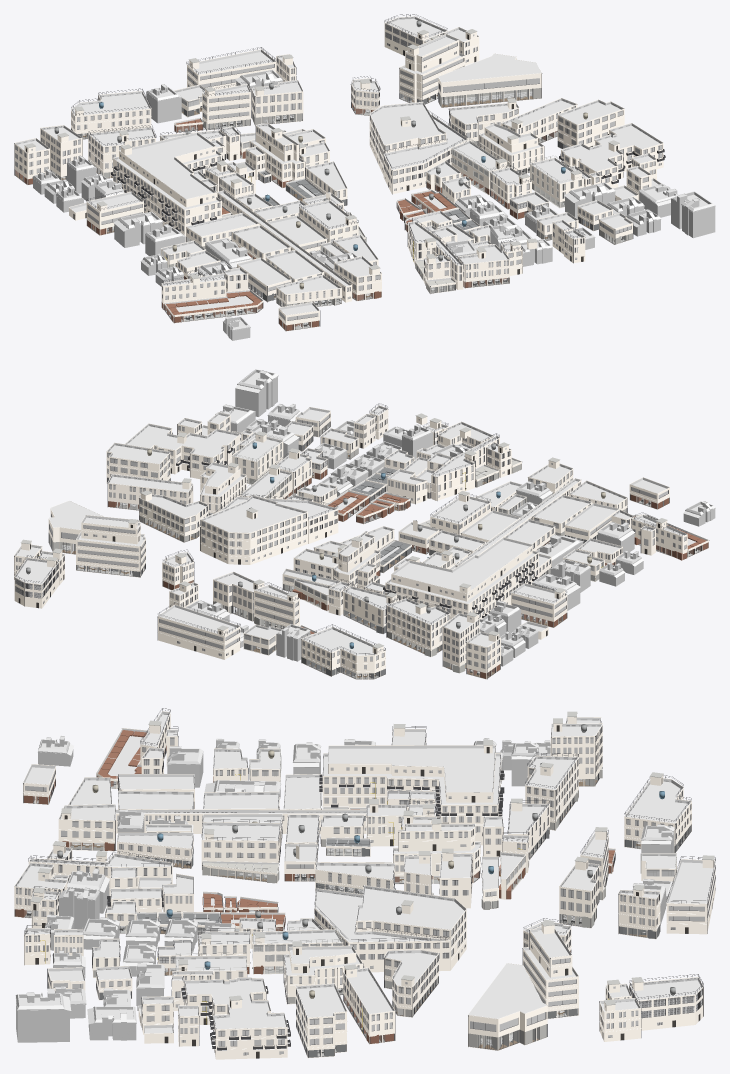
3 renders of one model, top to bottom at view 1: azimuth 30°, elevation 25°; view 2: azimuth 150°, elevation 25°; view 3: azimuth 270°, elevation 25°, orthographic. The views are drawn at different scales.
Visible parts, largest first — view 1: 서울특별시 성동구 성수동2가 336-2.003, 서울특별시 성동구 성수동2가 331-15, 서울특별시 성동구 성수동2가 331-232.002, 서울특별시 성동구 성수동2가 339-5.001, 서울특별시 성동구 성수동2가 331-2, 서울특별시 성동구 성수동2가 339-5, 서울특별시 성동구 성수동2가 339-1, 서울특별시 성동구 성수동2가 331-235, 서울특별시 성동구 성수동2가 339-55, 서울특별시 성동구 성수동2가 339-11.002, 서울특별시 성동구 성수동2가 335-160.001, 서울특별시 성동구 성수동2가 339-23 (+61 smaller); view 2: 서울특별시 성동구 성수동2가 336-2.003, 서울특별시 성동구 성수동2가 339-5.001, 서울특별시 성동구 성수동2가 331-2, 서울특별시 성동구 성수동2가 339-1, 서울특별시 성동구 성수동2가 331-232.002, 서울특별시 성동구 성수동2가 339-55, 서울특별시 성동구 성수동2가 336-1, 서울특별시 성동구 성수동2가 331-200, 서울특별시 성동구 성수동2가 331-235, 서울특별시 성동구 성수동2가 331-27, 서울특별시 성동구 성수동2가 335-141.001, 서울특별시 성동구 성수동2가 338-12 (+64 smaller); view 3: 서울특별시 성동구 성수동2가 336-2.003, 서울특별시 성동구 성수동2가 331-232.002, 서울특별시 성동구 성수동2가 331-15, 서울특별시 성동구 성수동2가 339-5.001, 서울특별시 성동구 성수동2가 339-5, 서울특별시 성동구 성수동2가 331-2, 서울특별시 성동구 성수동2가 331-235, 서울특별시 성동구 성수동2가 339-1, 서울특별시 성동구 성수동2가 339-55, 서울특별시 성동구 성수동2가 335-160.001, 서울특별시 성동구 성수동2가 330-1.007, 서울특별시 성동구 성수동2가 335-62 (+78 smaller).
Boxes of the visible parts, <box> form: 서울특별시 성동구 성수동2가 336-2.003: <box>110,132,224,241</box>; 서울특별시 성동구 성수동2가 331-15: <box>438,53,542,107</box>; 서울특별시 성동구 성수동2가 331-232.002: <box>559,123,665,187</box>; 서울특별시 성동구 성수동2가 339-5.001: <box>369,101,446,175</box>; 서울특별시 성동구 성수동2가 331-2: <box>399,34,465,104</box>; 서울특별시 성동구 성수동2가 339-5: <box>383,110,467,194</box>; 서울특별시 성동구 성수동2가 339-1: <box>71,88,151,139</box>; 서울특별시 성동구 성수동2가 331-235: <box>557,99,624,148</box>; 서울특별시 성동구 성수동2가 339-55: <box>186,47,276,89</box>; 서울특별시 성동구 성수동2가 339-11.002: <box>164,289,263,323</box>; 서울특별시 성동구 성수동2가 335-160.001: <box>249,123,305,188</box>; 서울특별시 성동구 성수동2가 339-23: <box>251,79,303,125</box>; 서울특별시 성동구 성수동2가 336-2.003: <box>383,537,538,619</box>; 서울특별시 성동구 성수동2가 339-5.001: <box>200,495,307,564</box>; 서울특별시 성동구 성수동2가 331-2: <box>76,515,145,577</box>; 서울특별시 성동구 성수동2가 339-1: <box>301,624,385,679</box>; 서울특별시 성동구 성수동2가 331-232.002: <box>124,423,240,478</box>; 서울특별시 성동구 성수동2가 339-55: <box>157,602,240,659</box>; 서울특별시 성동구 성수동2가 336-1: <box>386,596,450,656</box>; 서울특별시 성동구 성수동2가 331-200: <box>139,494,208,542</box>; 서울특별시 성동구 성수동2가 331-235: <box>106,442,170,483</box>; 서울특별시 성동구 성수동2가 331-27: <box>107,474,193,510</box>; 서울특별시 성동구 성수동2가 335-141.001: <box>431,433,499,500</box>; 서울특별시 성동구 성수동2가 338-12: <box>510,581,567,627</box>; 서울특별시 성동구 성수동2가 336-2.003: <box>319,745,504,845</box>; 서울특별시 성동구 성수동2가 331-232.002: <box>181,977,290,1059</box>; 서울특별시 성동구 성수동2가 331-15: <box>468,963,547,1050</box>; 서울특별시 성동구 성수동2가 339-5.001: <box>356,885,466,969</box>; 서울특별시 성동구 성수동2가 339-5: <box>314,885,450,972</box>; 서울특별시 성동구 성수동2가 331-2: <box>522,926,578,1019</box>; 서울특별시 성동구 성수동2가 331-235: <box>295,983,347,1058</box>; 서울특별시 성동구 성수동2가 339-1: <box>624,775,691,852</box>; 서울특별시 성동구 성수동2가 339-55: <box>666,856,715,934</box>; 서울특별시 성동구 성수동2가 335-160.001: <box>392,823,480,884</box>; 서울특별시 성동구 성수동2가 330-1.007: <box>629,974,703,1030</box>; 서울특별시 성동구 성수동2가 335-62: <box>201,819,280,869</box>.
Size of the model in its own units: 226 by 21.12 by 208.
